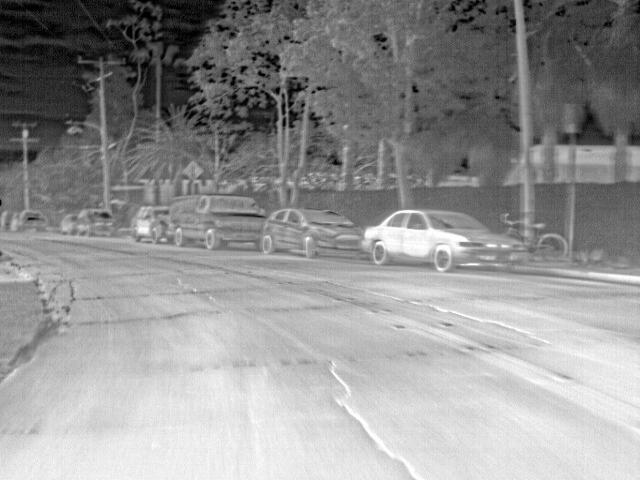car: (361, 208, 525, 273), (167, 193, 268, 250), (262, 208, 364, 258), (131, 205, 172, 244), (75, 207, 116, 236), (19, 212, 46, 231), (61, 212, 79, 235)
